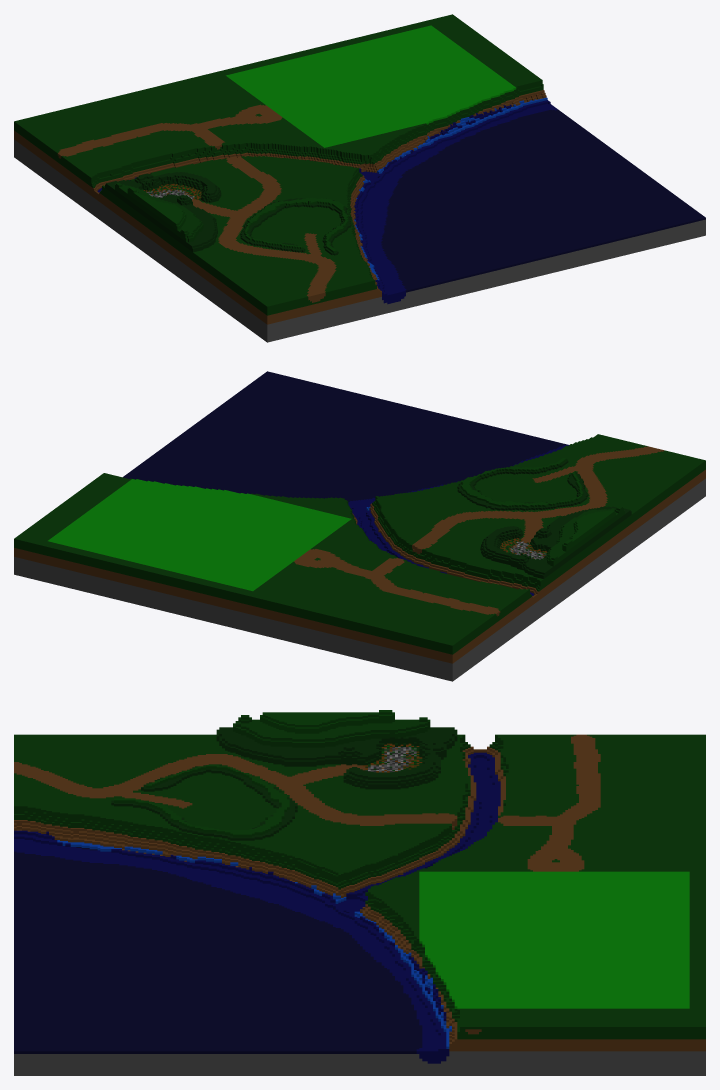
The model's file is Coast_Map.obj.
3 views of the same model, one above another, from view 1: azimuth 30°, elevation 25°; view 2: azimuth 150°, elevation 25°; view 3: azimuth 270°, elevation 25° (orthographic). The views are drawn at different scales.
Bounding box in the file's own units: 25.6 × 3 × 25.6.
1 material, 1 textured.
